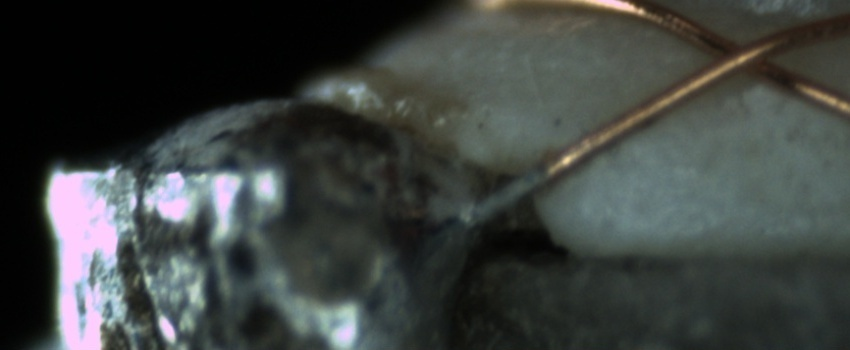CL: (693, 22, 800, 90)
TS: (466, 163, 549, 227)
